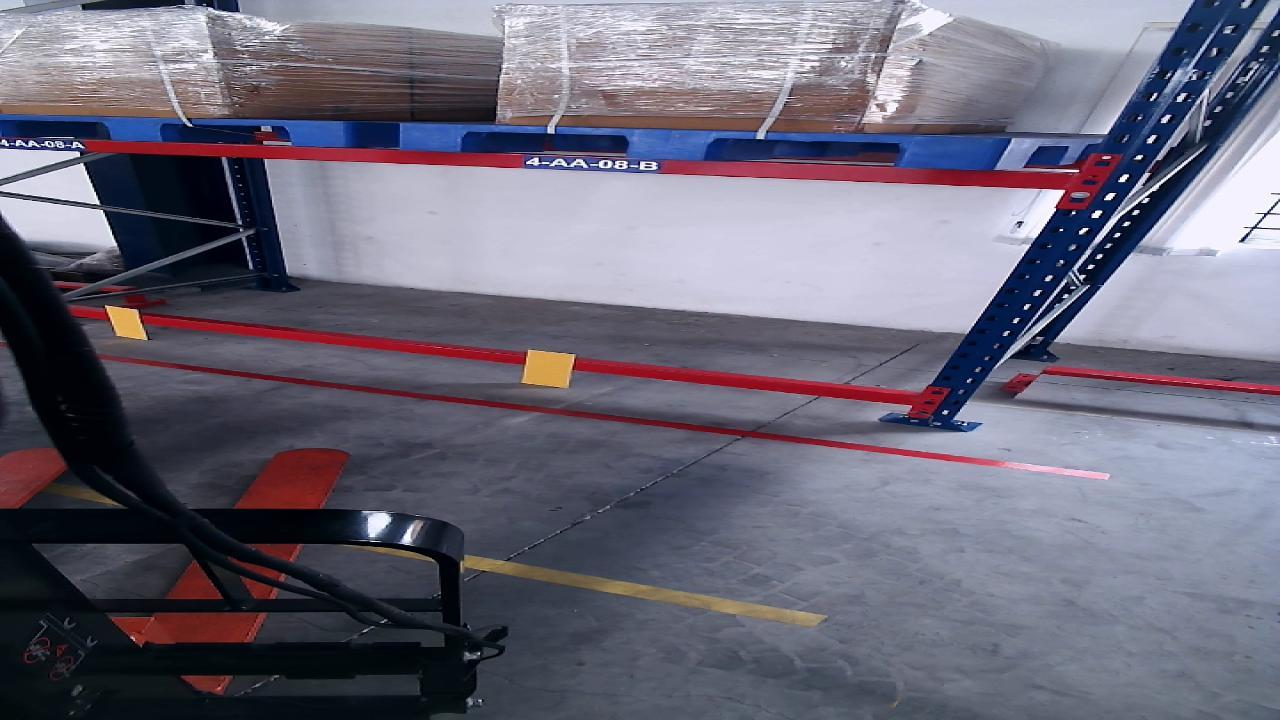h_rack: (68, 307, 915, 405), (0, 138, 1072, 189)
orange_strip: (521, 349, 575, 387), (105, 306, 148, 340)
red_line: (100, 354, 1107, 479)
small_pallet: (402, 124, 1005, 169), (0, 115, 344, 146)
yellow_line: (466, 554, 834, 633)
